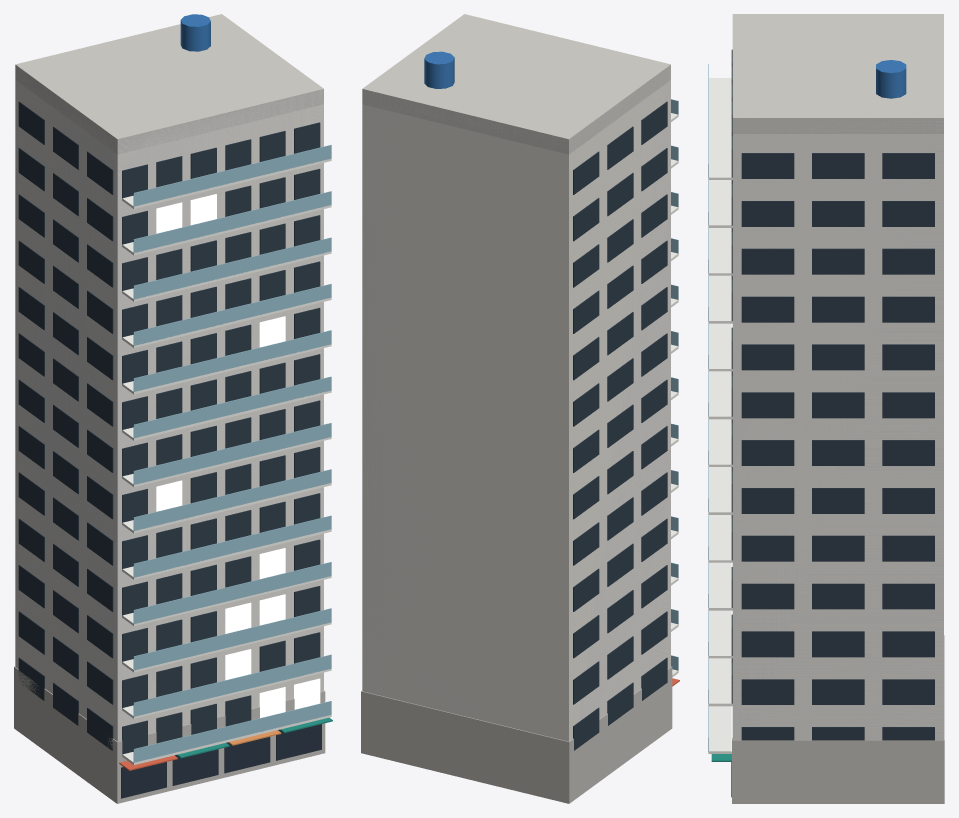
Rendered from edificio_playa_blanco.glb.
The picture shows the model from 3 angles, left to right: view 1: azimuth 30°, elevation 25°; view 2: azimuth 150°, elevation 25°; view 3: azimuth 270°, elevation 25°; orthographic projection. The views are drawn at different scales.
Visible parts, largest first — view 1: edificio_playa_blanco_Malla, COL_0; view 2: edificio_playa_blanco_Malla, COL_0; view 3: edificio_playa_blanco_Malla, COL_0.
Boxes of the visible parts, x1=… form: edificio_playa_blanco_Malla: x1=14, y1=14, x2=332, y2=803; COL_0: x1=15, y1=65, x2=323, y2=741; edificio_playa_blanco_Malla: x1=361, y1=14, x2=679, y2=803; COL_0: x1=362, y1=66, x2=670, y2=741; edificio_playa_blanco_Malla: x1=708, y1=14, x2=944, y2=803; COL_0: x1=732, y1=118, x2=943, y2=739.
Size of the model in its own units: 14.1 by 44.6 by 13.45.
